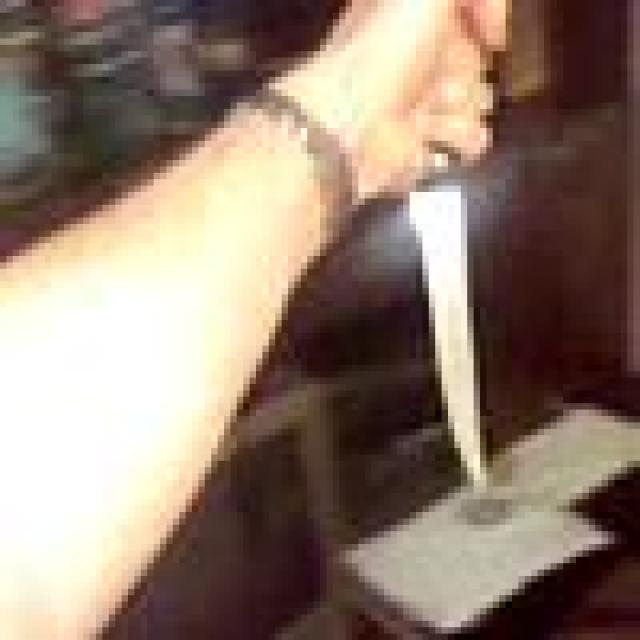knife: (413, 176, 474, 486)
